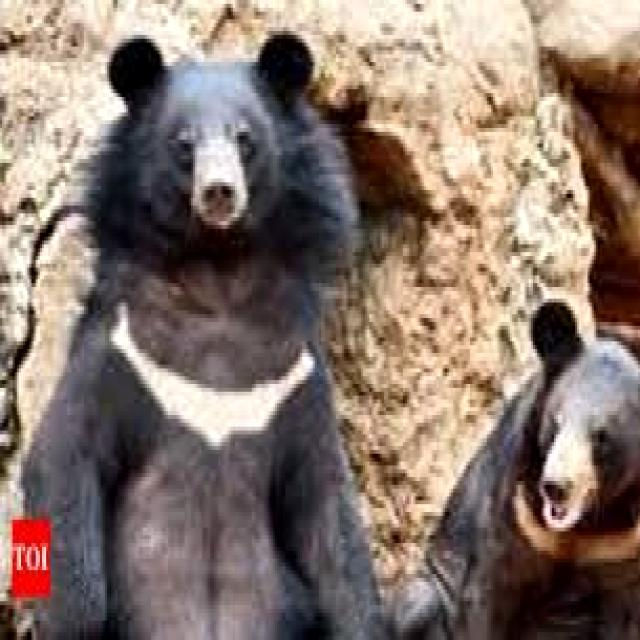bear: (111, 44, 356, 355), (486, 299, 640, 568)
